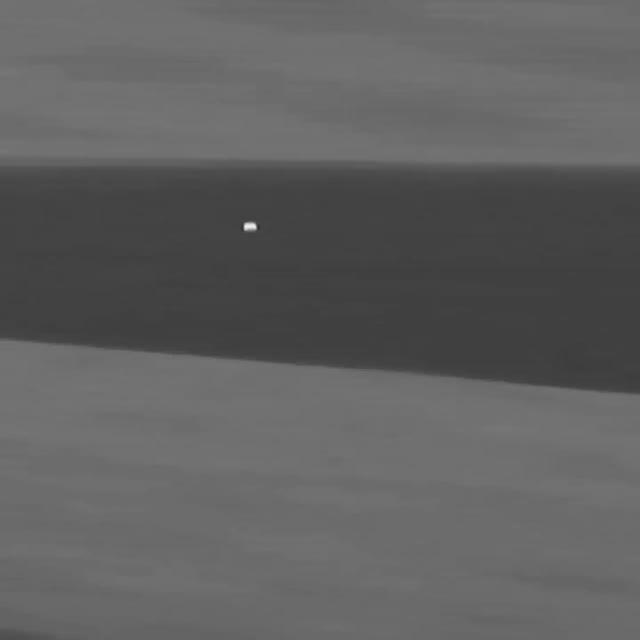baseball: (242, 221, 258, 232)
